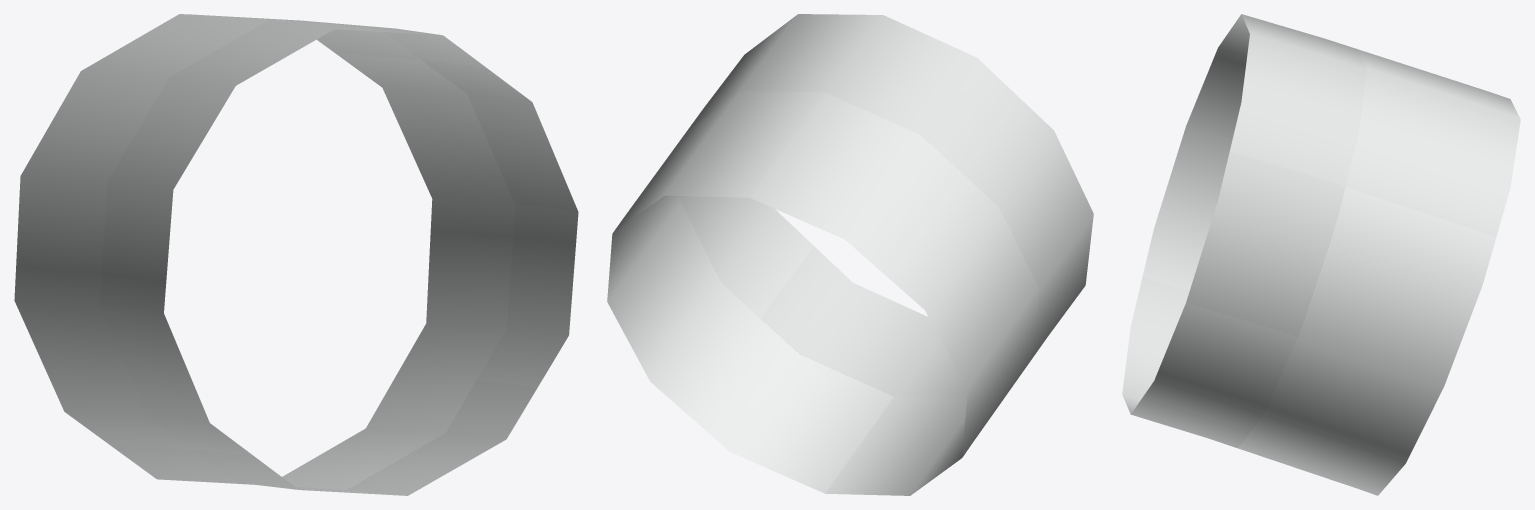
The model's file is luminairearm_caltrans10ftstraightdouble_c10.obj.
3 renders of one model, left to right at view 1: azimuth 30°, elevation 25°; view 2: azimuth 150°, elevation 25°; view 3: azimuth 270°, elevation 25°, orthographic. The views are drawn at different scales.
Visible parts, largest first — view 1: luminairearm_caltrans10ftstraightdouble_c10; view 2: luminairearm_caltrans10ftstraightdouble_c10; view 3: luminairearm_caltrans10ftstraightdouble_c10.
Part boxes in pixels (x1,y1,x2,y2): luminairearm_caltrans10ftstraightdouble_c10: [14, 14, 578, 495]; luminairearm_caltrans10ftstraightdouble_c10: [607, 14, 1093, 495]; luminairearm_caltrans10ftstraightdouble_c10: [1122, 14, 1520, 495].
Bounding box in the file's own units: 0.1875 × 0.2168 × 0.1775.
